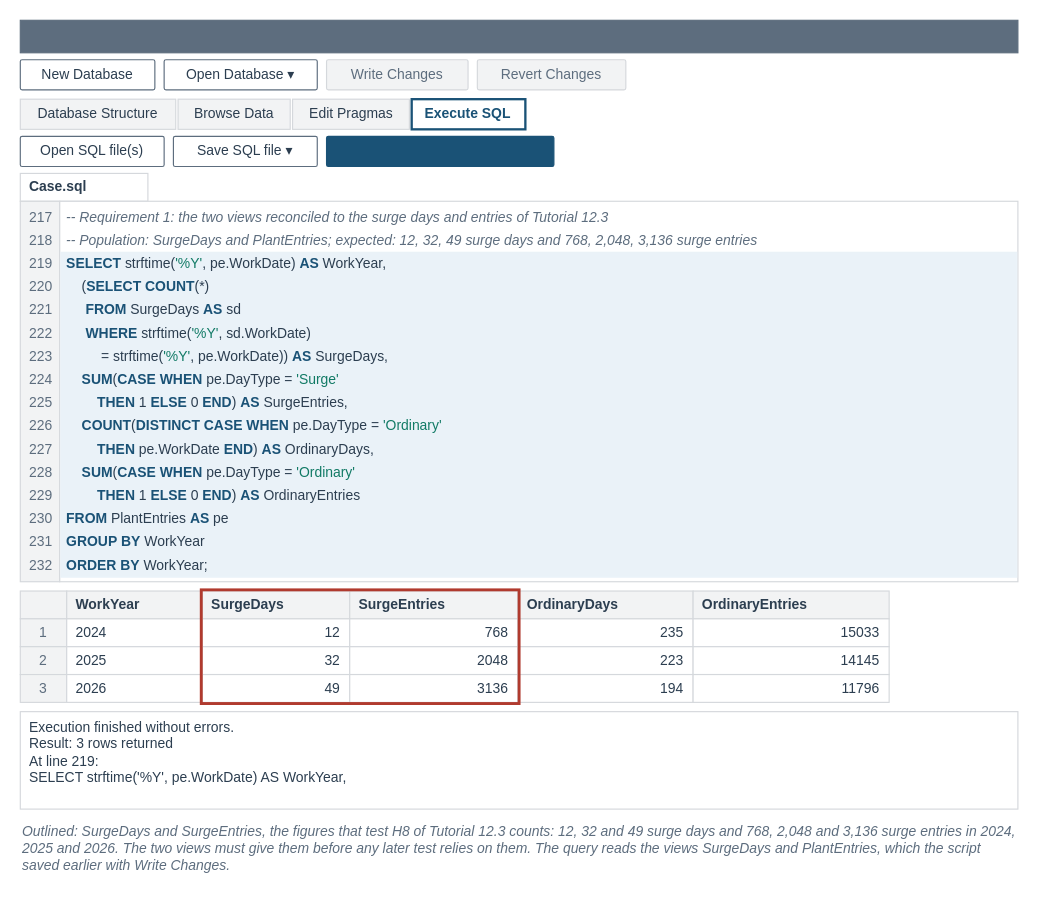
The diagram is 1038 pixels wide and 900 high, and some of its shapes have lost their labels. Each missing label, with the centre of its shape:
DB Browser for SQLite - C:\Users\you\Documents\CharlesRiver_Work.sqlite: pixel 518 36
▶ Execute all/selected SQL: pixel 439 150
